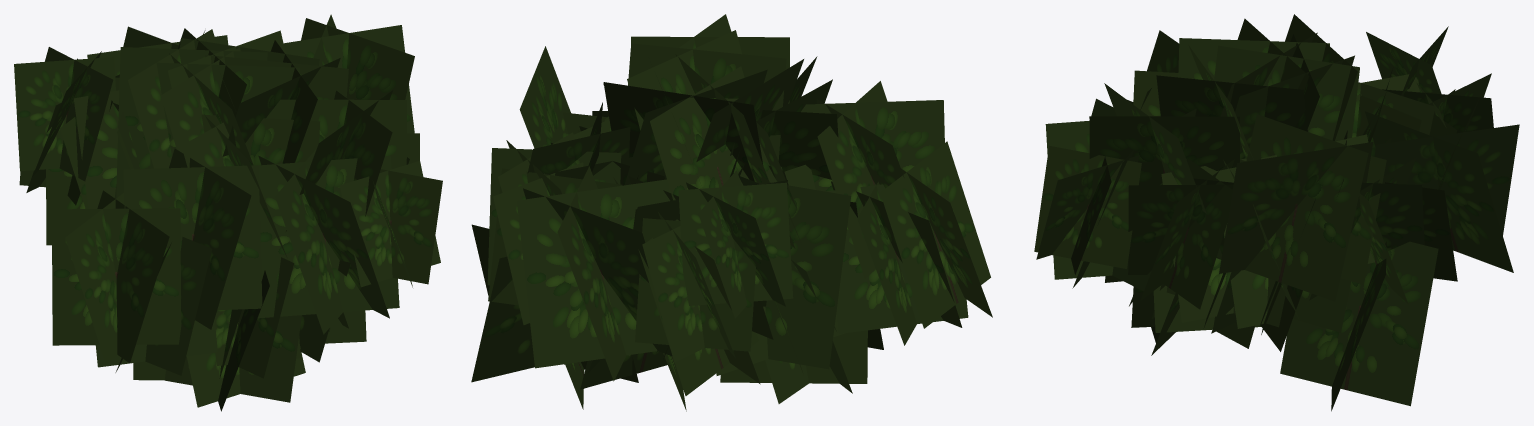
File: SM_Art_Veg_Mangrove_1_LeavesDark.gltf
3 views of the same model, side by side, from view 1: azimuth 30°, elevation 25°; view 2: azimuth 150°, elevation 25°; view 3: azimuth 270°, elevation 25° (orthographic). The views are drawn at different scales.
Parts seen in each view (by area): view 1: SM_Art_Veg_Mangrove_1_LeavesDark; view 2: SM_Art_Veg_Mangrove_1_LeavesDark; view 3: SM_Art_Veg_Mangrove_1_LeavesDark.
Boxes of the visible parts, left/top/right/bottom form: SM_Art_Veg_Mangrove_1_LeavesDark: left=14, top=14, right=442, bottom=411; SM_Art_Veg_Mangrove_1_LeavesDark: left=471, top=14, right=992, bottom=411; SM_Art_Veg_Mangrove_1_LeavesDark: left=1034, top=14, right=1519, bottom=411.
Size of the model in its own units: 4.77 by 3.03 by 4.78.
1 material, 1 textured.
